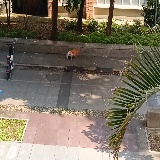fire: (69, 47, 80, 56)
